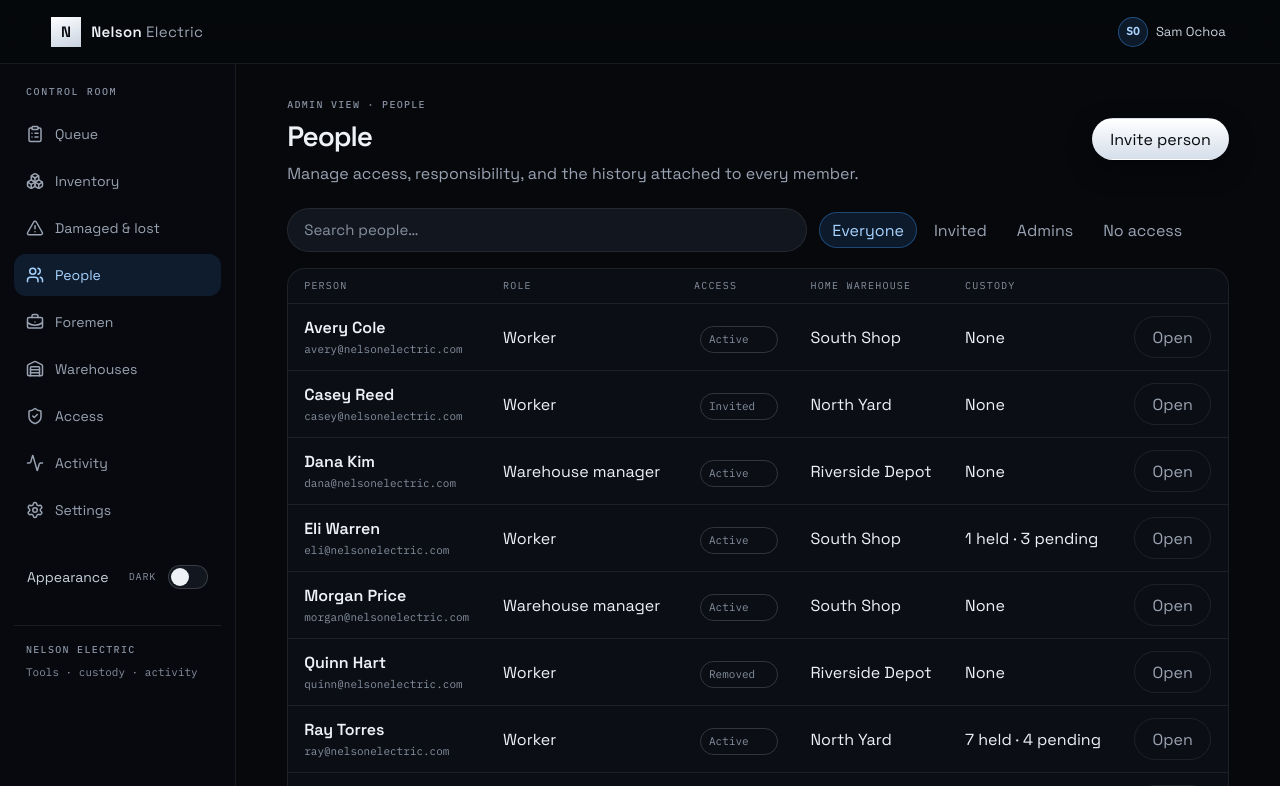
admin command safety › disables duplicate access submissions while the command is pending
Click the link "Casey Reed": (349, 395) top-left (304, 384), bottom-right (394, 405)
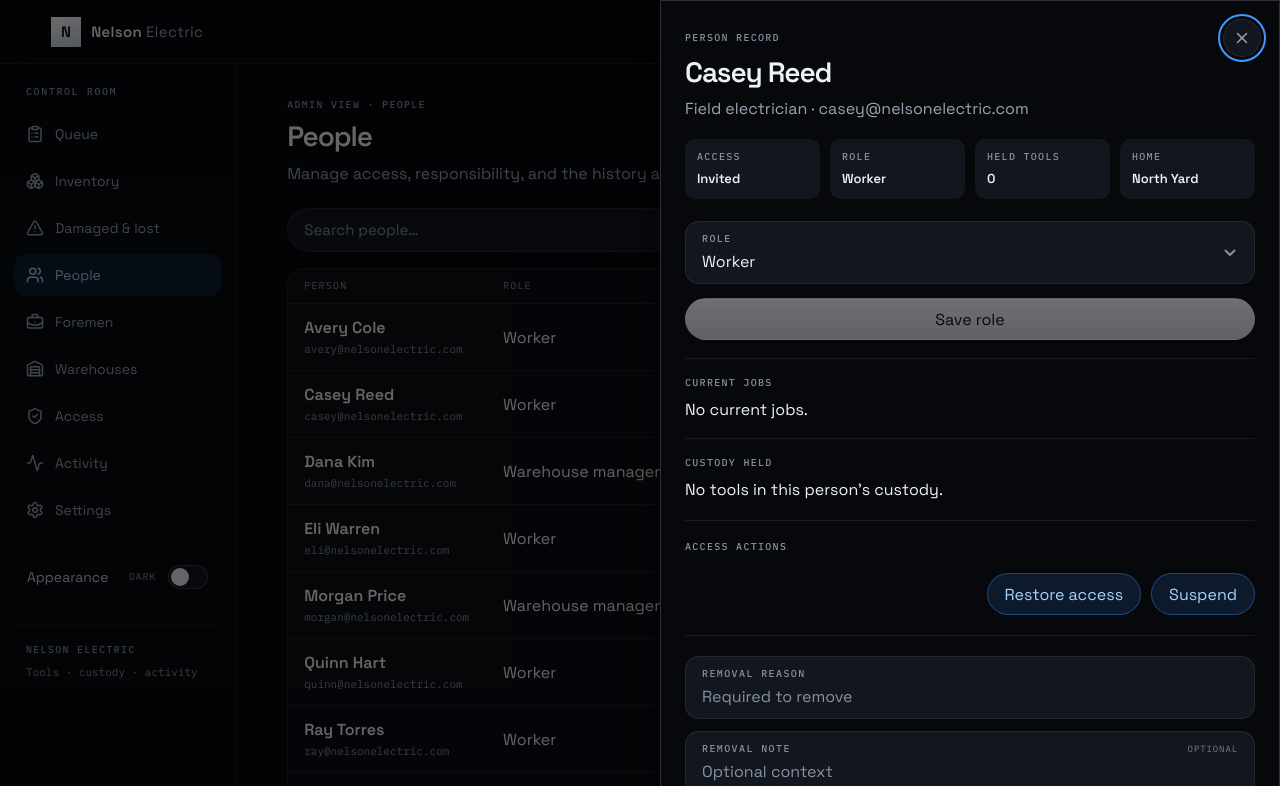
Click the button "Suspend": (1203, 594) top-left (1151, 573), bottom-right (1255, 615)
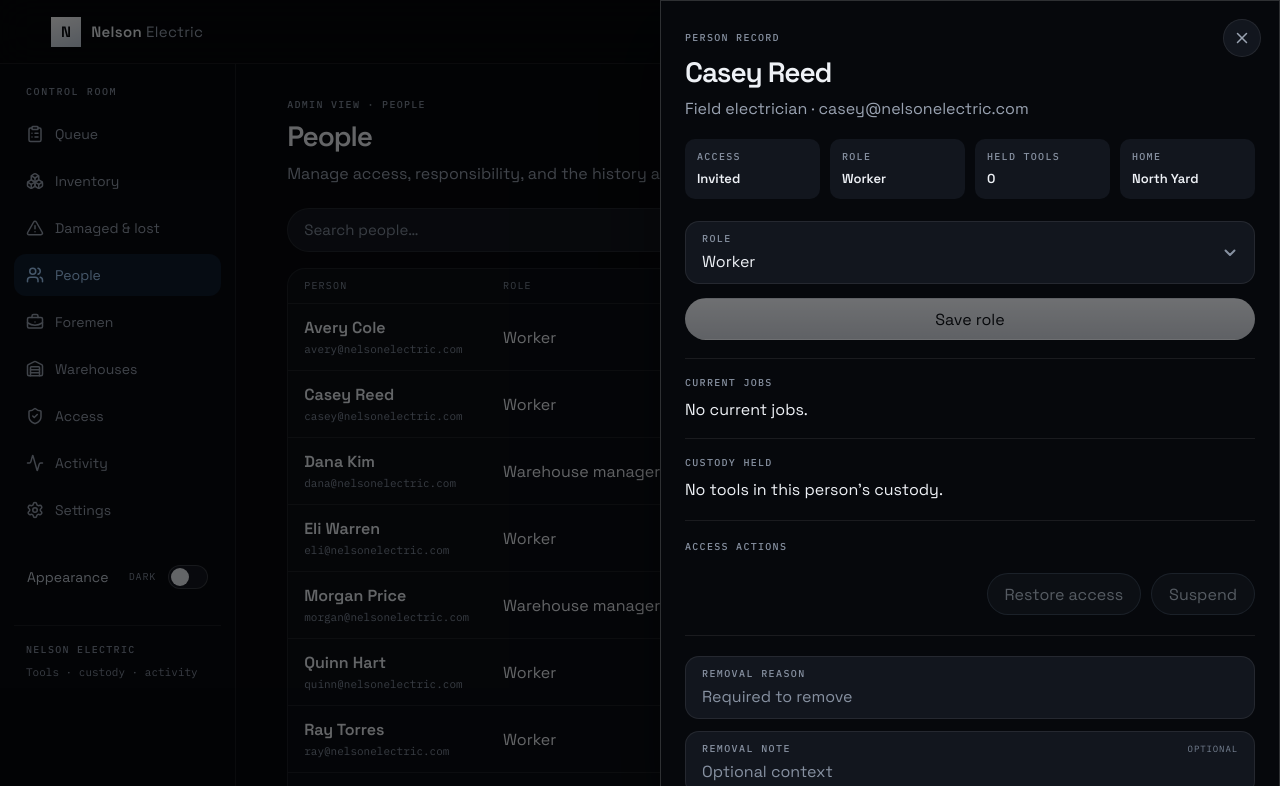
Check: the button "Suspend" is disabled
Click the button "Suspend": (1203, 594) top-left (1151, 573), bottom-right (1255, 615)
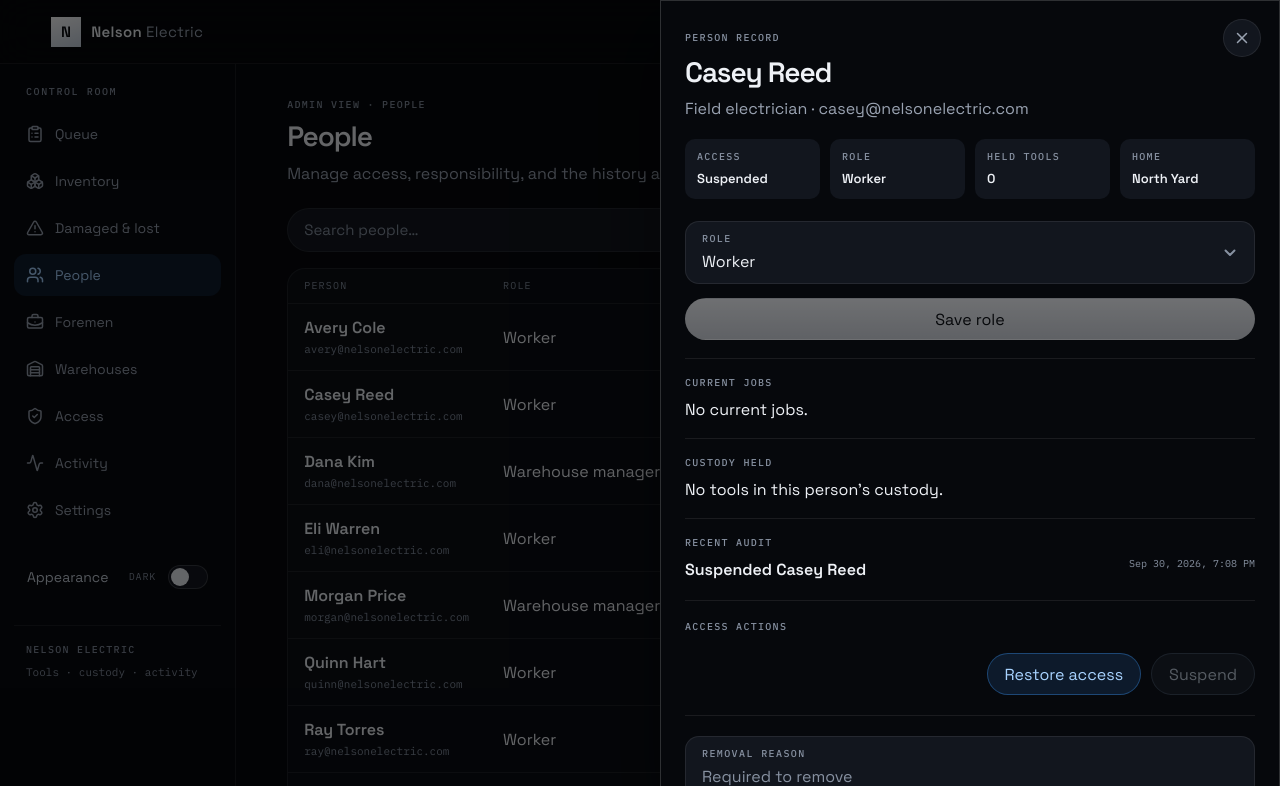
Check: the text "Suspended" is shown, box top-left (697, 170), bottom-right (768, 187)
